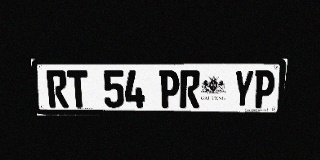4: (124, 70, 145, 108)
5: (103, 70, 125, 108)
P: (252, 70, 276, 108), (159, 70, 179, 108)
R: (46, 70, 69, 108), (180, 70, 201, 108)
T: (67, 70, 89, 108)
Y: (232, 70, 255, 108)
